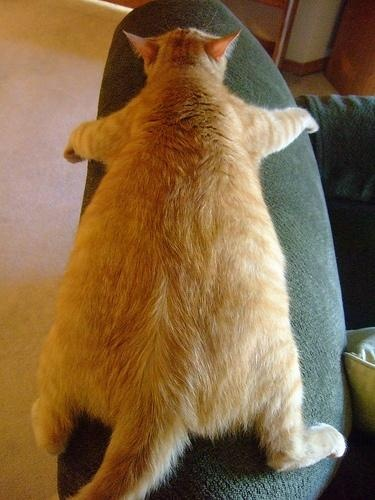cat: (30, 26, 348, 500)
sofa: (59, 1, 375, 500)
